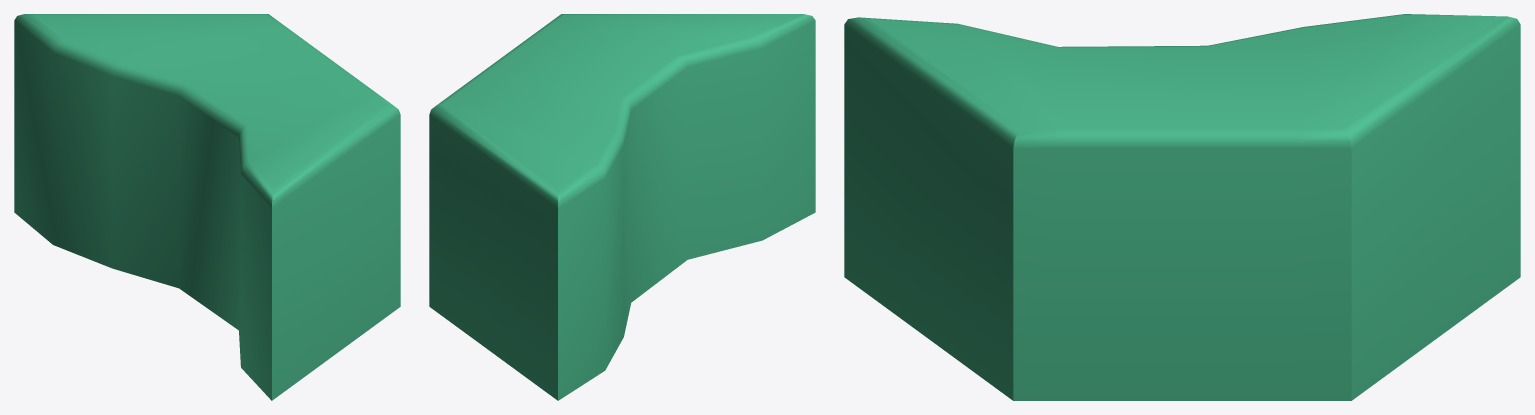
Rendered from hex_forest_waterc_empty.glb.
The picture shows the model from 3 angles, left to right: view 1: azimuth 30°, elevation 25°; view 2: azimuth 150°, elevation 25°; view 3: azimuth 270°, elevation 25°; orthographic projection. The views are drawn at different scales.
Visible parts, largest first — view 1: hex_forest_waterC_empty; view 2: hex_forest_waterC_empty; view 3: hex_forest_waterC_empty.
Part boxes in pixels (x1,y1,x2,y2): hex_forest_waterC_empty: (14, 14, 400, 400); hex_forest_waterC_empty: (429, 14, 815, 400); hex_forest_waterC_empty: (844, 14, 1520, 400).
Size of the model in its own units: 4.09 by 4 by 9.24.
